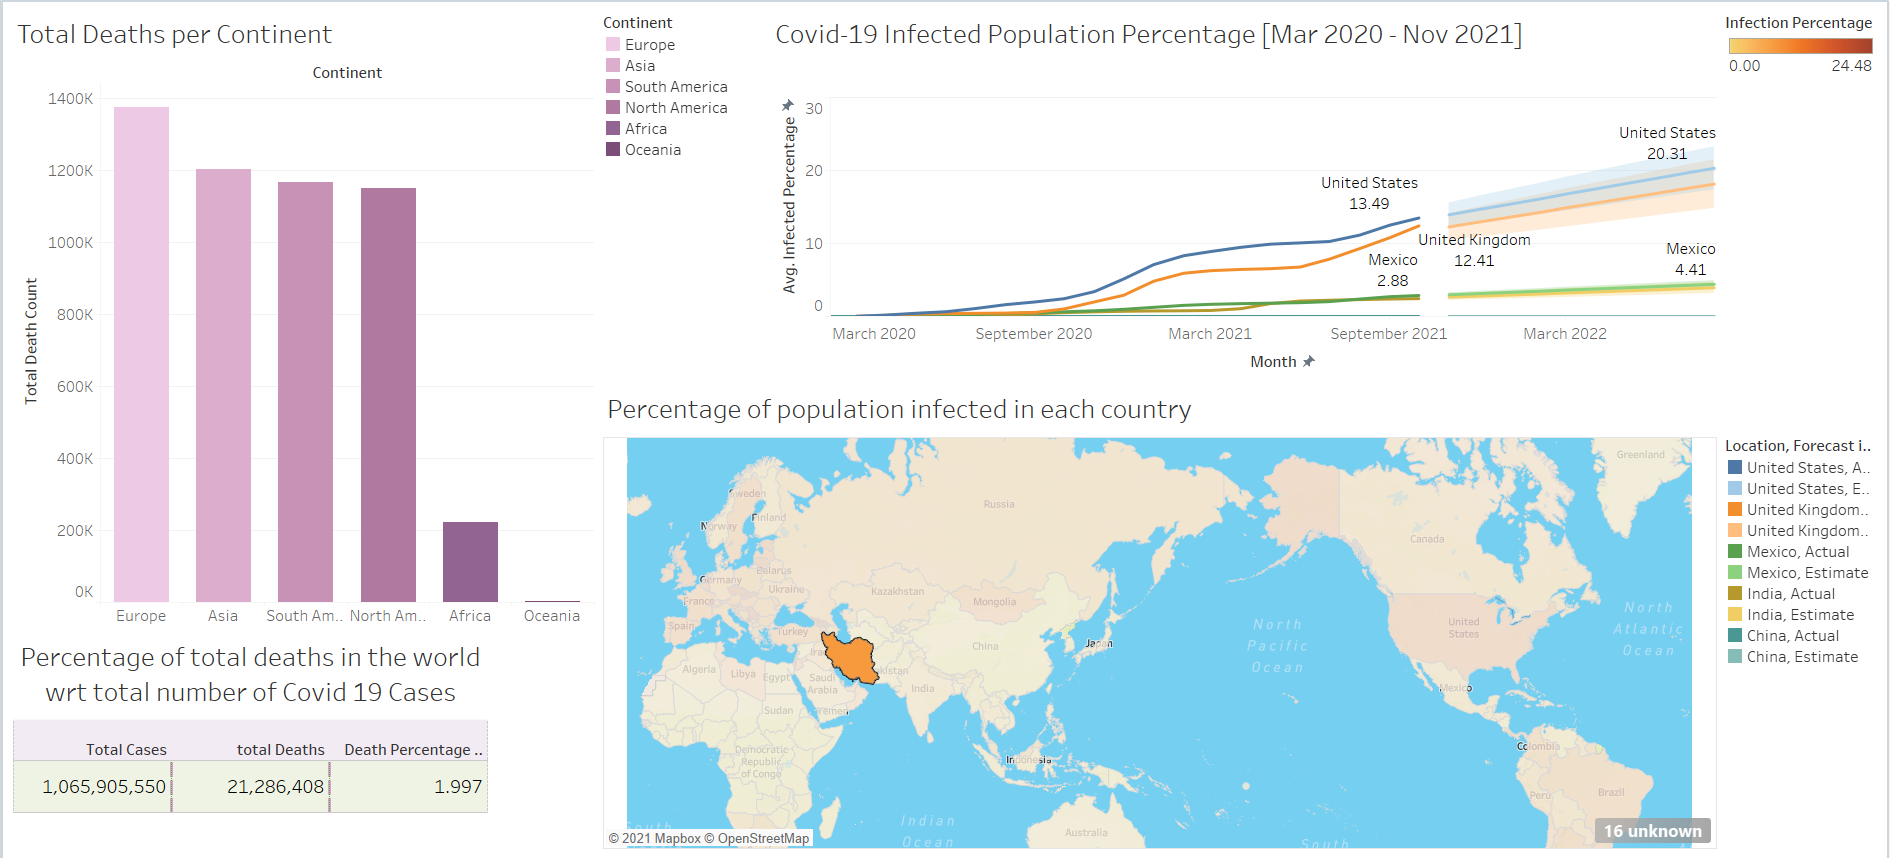

The page's visual inventory and layout, read from the dashboard file:
{"tool":"tableau","page":{"name":"Dashboard 1","canvas":[1000,1000],"units":"permille","ordinal":0},"visuals":[{"type":"worksheet","title":"Sheet 2","mark":"Automatic","rows":["TotalDeathCount"],"cols":["continent"],"box":[4.8,9.3,307.8,723.6]},{"type":"legend","title":"Sheet 2","param":"[federated.1d0brfj0983gi51eqpete02isnd5].[none:continent:nk]","box":[312.6,9.3,88.1,435.5]},{"type":"worksheet","title":"Sheet 4","mark":"Automatic","rows":["INFECTION_PERCENTAGE"],"cols":["date"],"box":[400.7,9.3,497.9,435.5]},{"type":"legend","title":"Sheet 3","param":"[federated.14mlkxw15284081g9j9zf1vluyon].[sum:INFECTION_PERCENTAGE:qk]","box":[898.6,9.3,96.6,84.8]},{"type":"worksheet","title":"Sheet 3","mark":"Automatic","box":[312.6,444.8,586,545.9]},{"type":"legend","title":"Sheet 4","param":"[federated.1ogpzyg1h93q0t1c69yq40apqjrx].[none:location:nk]\n[federated.1ogpzyg1h","box":[898.6,500.6,96.6,278.7]},{"type":"worksheet","title":"Sheet 1","mark":"Automatic","box":[4.8,732.9,307.8,257.8]}]}

Visuals, with their boxes on the dashboard's canvas, which has no fixed pixel size, in thousandths of its width and height (x1, y1, x2, y2). These are canvas units, not pixel positions in the 1890x858 screenshot, which may show the page scaled, cropped or inside an application window:
"Sheet 2" worksheet: [5,9,313,733]
"Sheet 2" legend: [313,9,401,445]
"Sheet 4" worksheet: [401,9,899,445]
"Sheet 3" legend: [899,9,995,94]
"Sheet 3" worksheet: [313,445,899,991]
"Sheet 4" legend: [899,501,995,779]
"Sheet 1" worksheet: [5,733,313,991]
